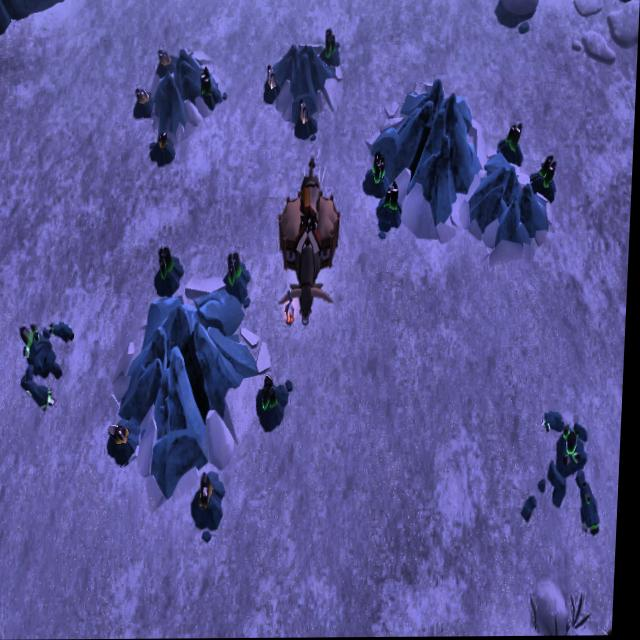ore_t3: (539, 151, 560, 195), (264, 369, 283, 415), (158, 245, 180, 283), (505, 121, 527, 156), (228, 249, 248, 287), (384, 178, 404, 213), (372, 150, 390, 187), (324, 23, 339, 67), (199, 64, 215, 96)
